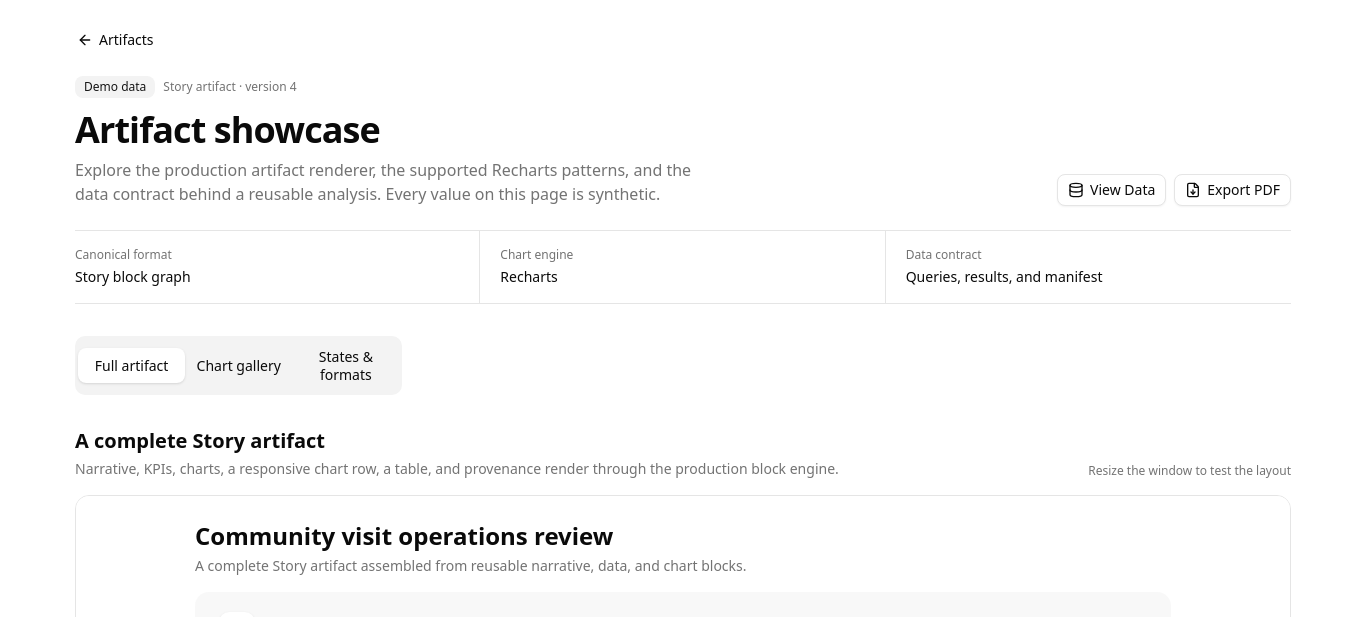
Test: ArtifactDemoPage › exposes chart patterns, responsive controls, states, and supported formats
Click the tab "Chart gallery" at (239, 366), box [185,348,292,383]
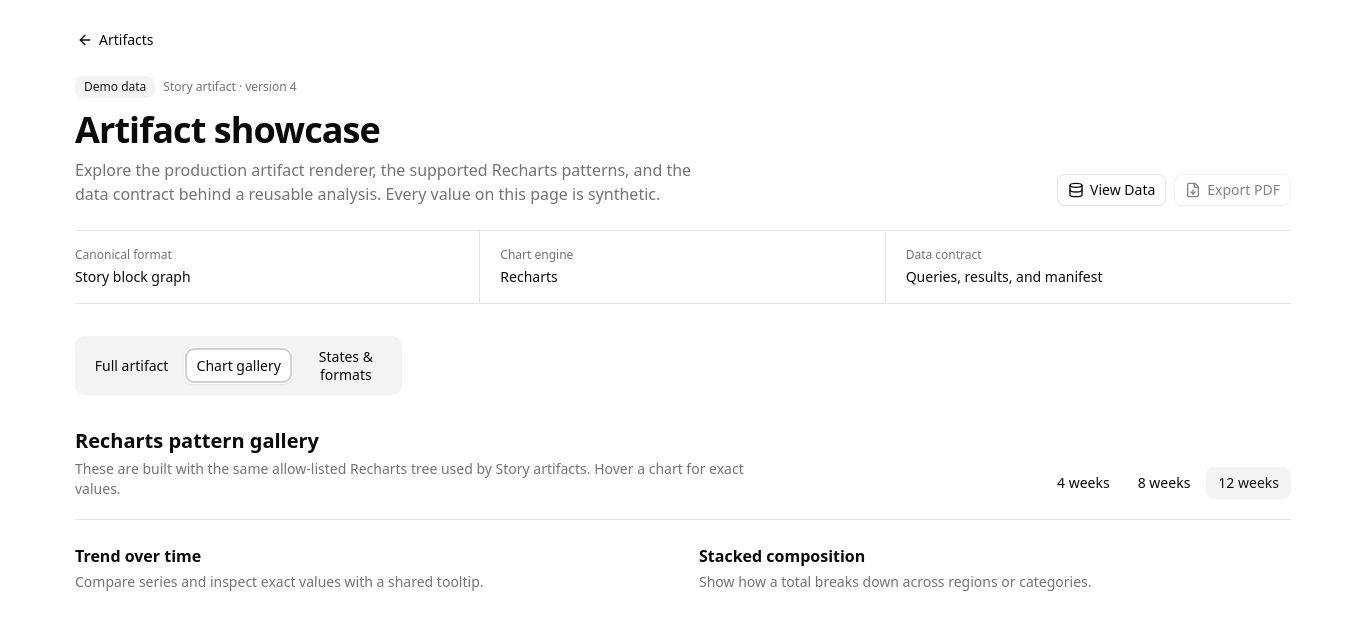
Now the heading "Trend over time" is shown, box [75,545,201,567]
Click the button "4 weeks" at (1083, 483), box [1045,467,1122,499]
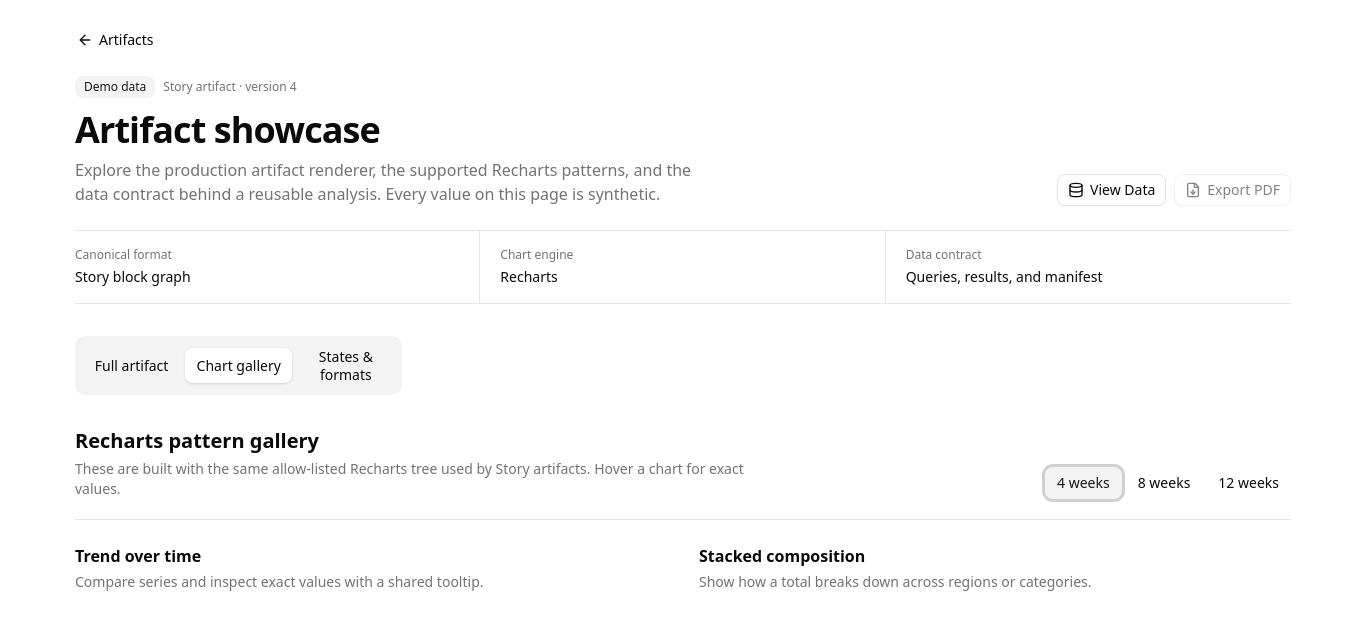
Click the tab "States & formats" at (346, 366), box [292,339,399,392]
(page scrolled)
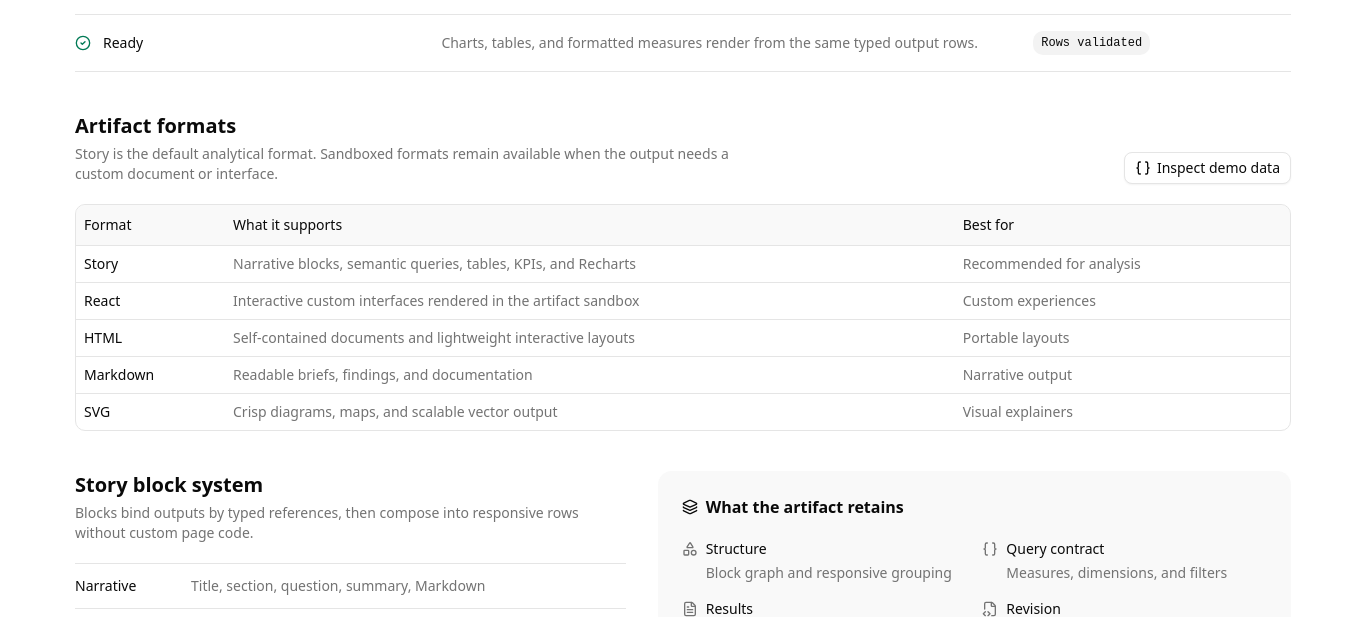
Now the cell "Story" is shown, box [76,245,225,282]
Now the cell "React" is shown, box [76,282,225,319]
Now the cell "HTML" is shown, box [76,319,225,356]
